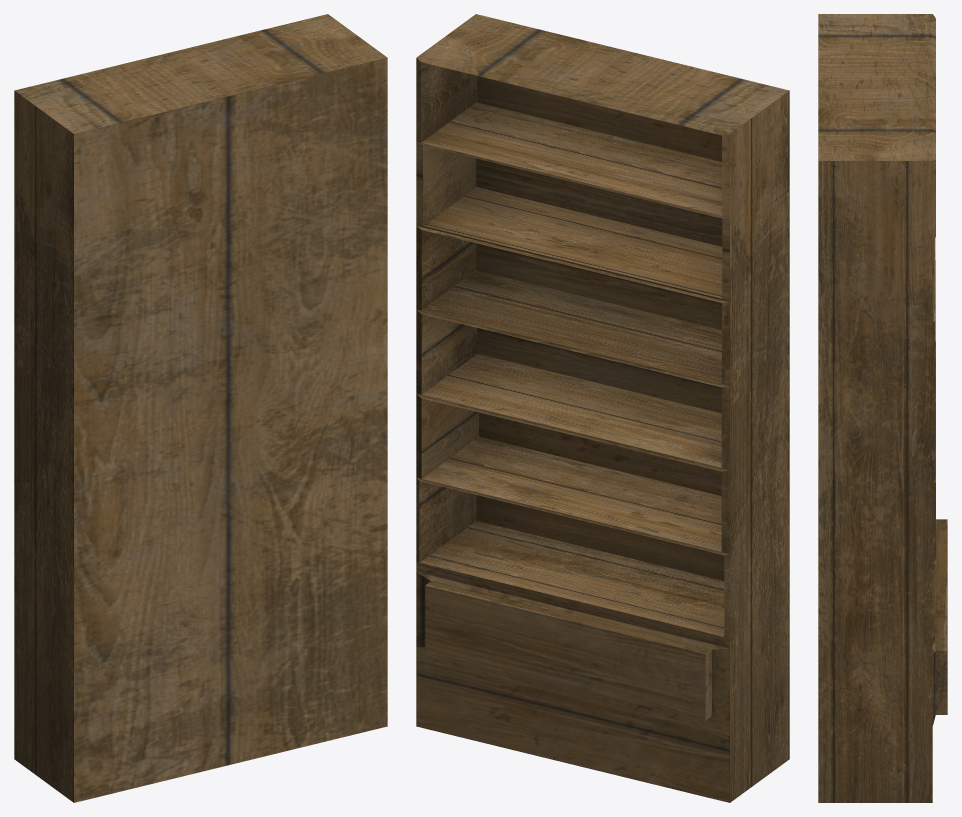
Rendered from LibreroComedor.fbx.
3 views of the same model, side by side, from view 1: azimuth 30°, elevation 25°; view 2: azimuth 150°, elevation 25°; view 3: azimuth 270°, elevation 25° (orthographic). The views are drawn at different scales.
Parts seen in each view (by area): view 1: Librero; view 2: Librero; view 3: Librero.
Boxes of the visible parts, box(x1,y1,x2,y2) form: Librero: box(14, 14, 387, 802); Librero: box(416, 14, 789, 802); Librero: box(818, 14, 947, 802).
Bounding box in the file's own units: 3.99 × 8.12 × 1.48.
